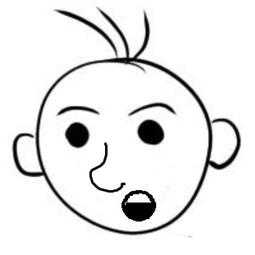ear: (204, 111, 246, 174), (9, 125, 51, 183)
eye: (130, 116, 169, 157), (60, 114, 93, 154)
eyebrow: (126, 100, 188, 117), (51, 103, 107, 118)
large_nose: (88, 140, 129, 192)
open_mouth: (119, 187, 162, 224)
